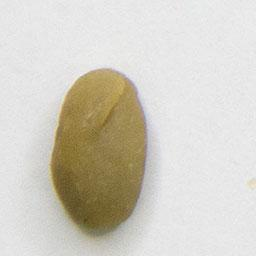premium: (47, 65, 152, 238)
